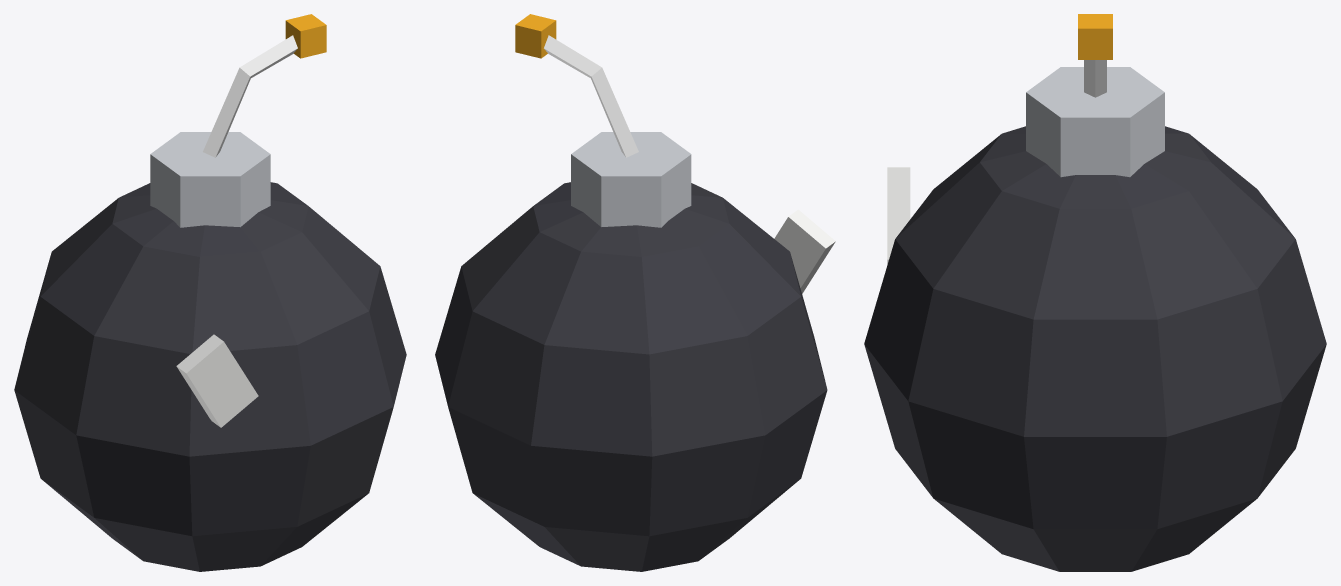
File: CartoonBomb.fbx
3 renders of one model, left to right at view 1: azimuth 30°, elevation 25°; view 2: azimuth 150°, elevation 25°; view 3: azimuth 270°, elevation 25°, orthographic. The views are drawn at different scales.
Visible parts, largest first — view 1: CartoonBomb; view 2: CartoonBomb; view 3: CartoonBomb.
Boxes of the visible parts, bbox=[...] form: CartoonBomb: bbox=[14, 14, 406, 571]; CartoonBomb: bbox=[435, 14, 835, 571]; CartoonBomb: bbox=[864, 14, 1326, 571].
Size of the model in its own units: 1.9 by 2.8 by 2.
1 material, 1 textured.
